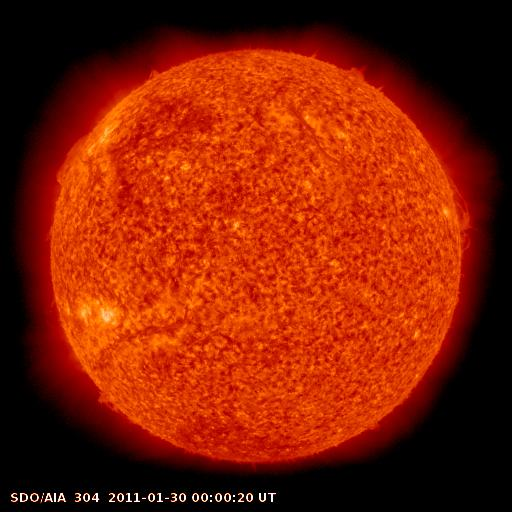prominence: (442, 170, 485, 259), (47, 117, 93, 196), (337, 53, 395, 101), (83, 382, 131, 421)
